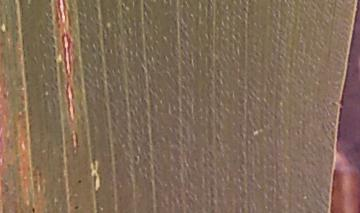tarspot: (76, 178, 83, 185), (73, 204, 80, 211), (30, 206, 36, 213)
